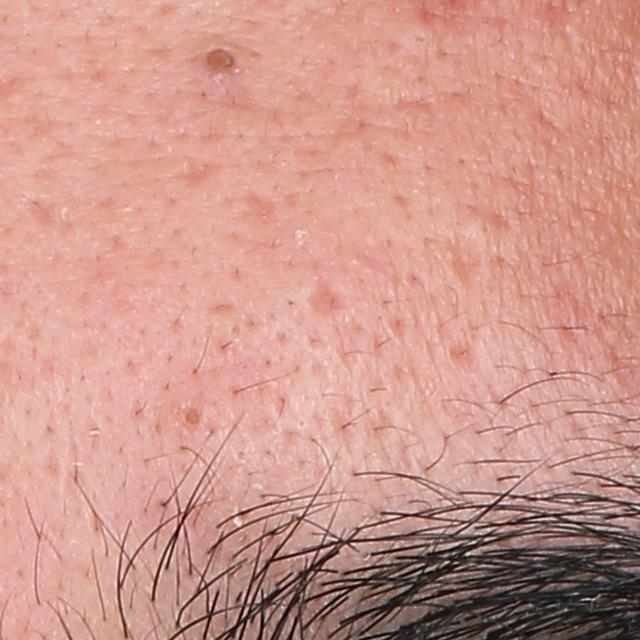atrophic_scar: (221, 186, 281, 231), (308, 274, 347, 329), (447, 240, 491, 287), (442, 335, 486, 377), (175, 153, 225, 187)
comedo: (195, 42, 240, 79), (174, 401, 205, 431)
